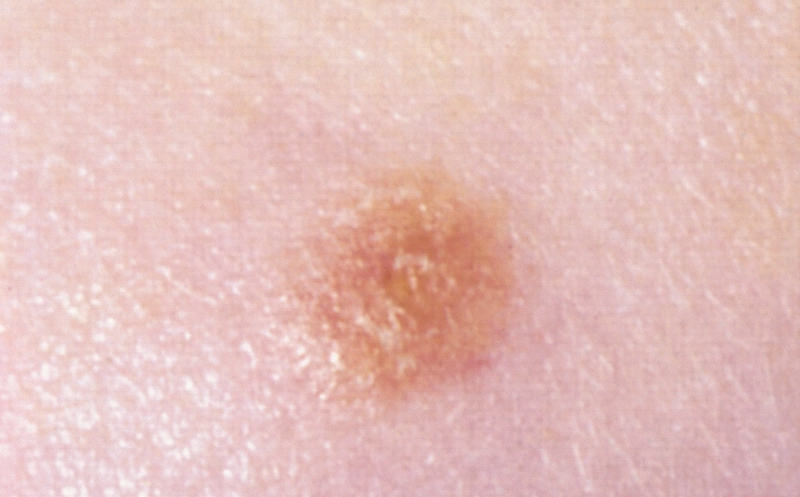Melanoma: (286, 166, 519, 395)
